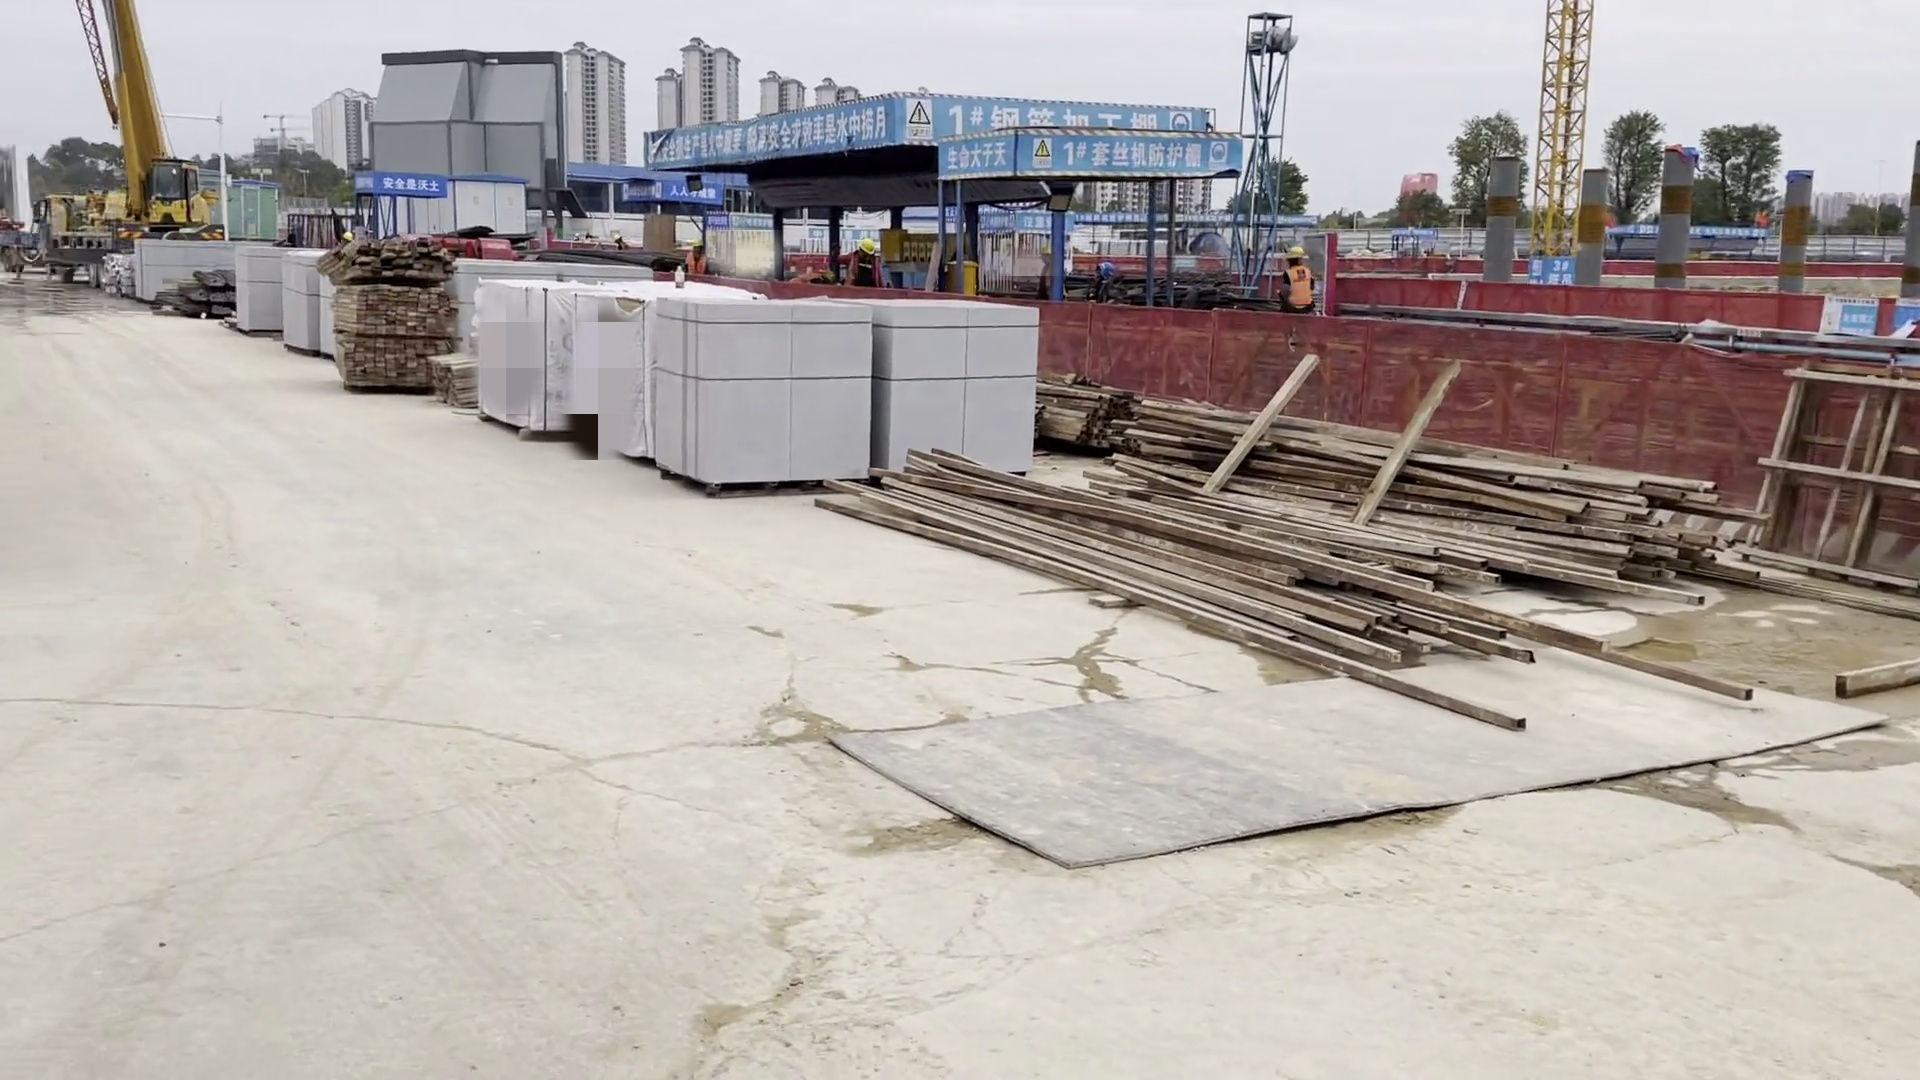brick: (662, 292, 1047, 492)
helmet: (1281, 248, 1309, 267), (858, 238, 879, 253), (687, 239, 704, 255)
person: (843, 237, 895, 286), (1282, 246, 1318, 308), (685, 237, 712, 280)
slogan: (652, 94, 1245, 199), (345, 168, 449, 194)
vest: (844, 250, 890, 288), (1280, 266, 1315, 308), (681, 252, 715, 282)
wood: (910, 375, 1749, 722), (306, 238, 460, 403)
